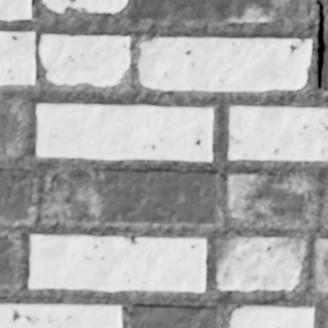brick: (30, 233, 205, 290), (38, 103, 213, 160), (51, 168, 219, 223), (139, 38, 310, 90), (229, 105, 327, 159), (216, 234, 305, 289), (40, 34, 130, 86), (228, 173, 308, 221), (142, 0, 307, 21), (0, 302, 122, 327), (131, 303, 219, 327), (227, 304, 313, 327), (0, 31, 36, 84), (0, 168, 34, 218), (0, 101, 23, 150), (44, 0, 127, 13), (0, 234, 19, 283), (314, 237, 327, 290), (0, 0, 32, 19), (324, 39, 327, 90)
crack: (316, 0, 325, 88)
